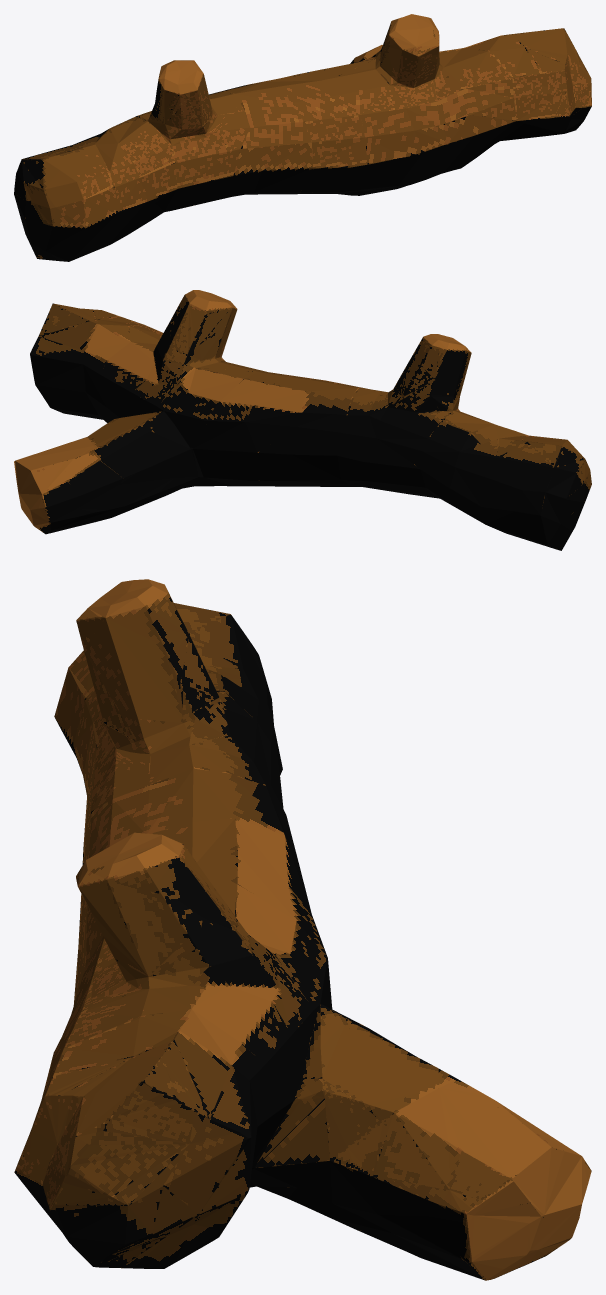
3 renders of one model, top to bottom at view 1: azimuth 30°, elevation 25°; view 2: azimuth 150°, elevation 25°; view 3: azimuth 270°, elevation 25°, orthographic. The views are drawn at different scales.
Visible parts, largest first — view 1: OBJ0cc; view 2: OBJ0cc; view 3: OBJ0cc.
Boxes of the visible parts, bbox=[...] form: OBJ0cc: bbox=[14, 14, 591, 261]; OBJ0cc: bbox=[14, 290, 591, 550]; OBJ0cc: bbox=[14, 579, 591, 1280].
Size of the model in its own units: 0.3303 by 0.1127 by 0.152.
1 material, 1 textured.
